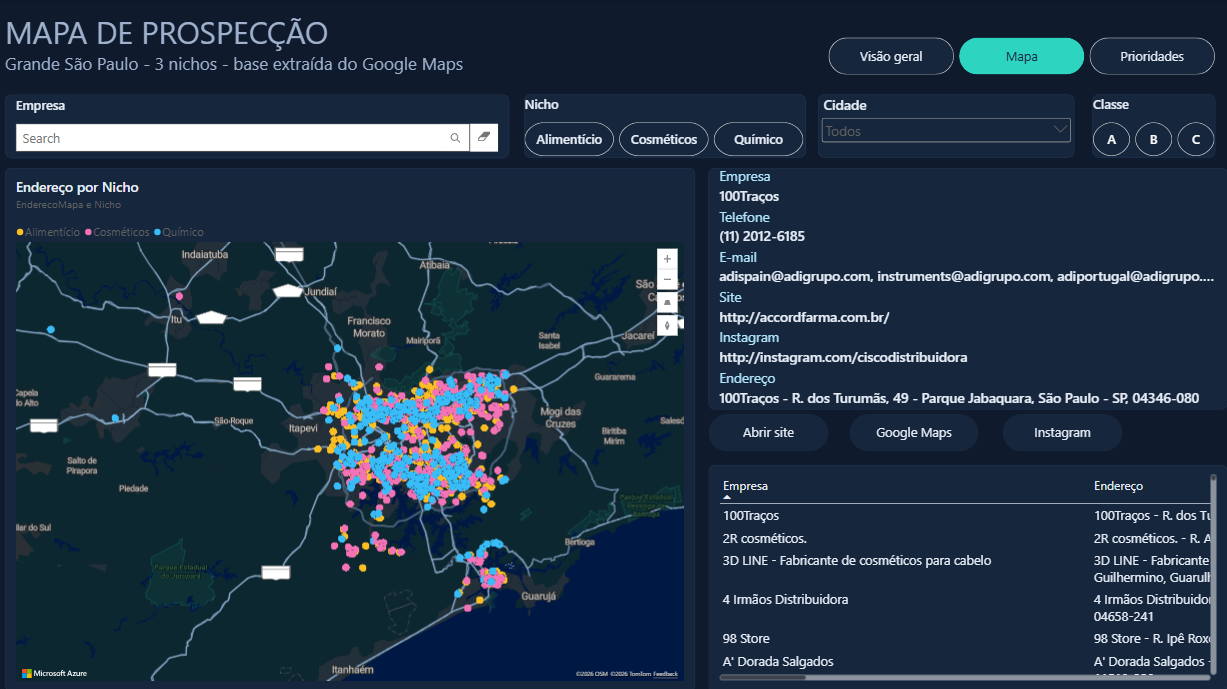

This screenshot's page, from the dashboard's own definition file:
{"tool":"powerbi","page":{"name":"Mapa","canvas":[1920,1080],"ordinal":1},"visuals":[{"type":"azureMap","title":"Endereço por Nicho","fields":{"Category":["Base_prospeccao_completa.EnderecoMapa"],"Series":["Base_prospeccao_completa.Nicho"]},"box":[9.4,262.6,1078.5,818.2],"z":0},{"type":"advancedSlicerVisual","fields":{"Values":["Base_prospeccao_completa.Classe"]},"box":[1709.1,147.7,192.2,98.5],"z":1000},{"type":"advancedSlicerVisual","fields":{"Values":["Base_prospeccao_completa.Nicho"]},"box":[820.6,147.7,440.8,98.5],"z":2000},{"type":"slicer","fields":{"Values":["Base_prospeccao_completa.Cidade"]},"box":[1280.1,147.7,400.9,98.5],"z":3000},{"type":"cardVisual","title":"Empresa selecionada","fields":{"Data":["Min(Base_prospeccao_completa.Empresa)","Min(Base_prospeccao_completa.Telefone)","Min(Base_prospeccao_completa.E-mail)","Min(Base_prospeccao_completa.Site)","Min(Base_prospeccao_completa.Instagram)","Min(Base_prospeccao_completa.Endereço)"]},"box":[1108.9,262.6,811.2,377.5],"z":4000},{"type":"textbox","box":[9.4,16.4,1252,131.3],"z":5000},{"type":"pageNavigator","box":[1296.5,58.6,604.9,58.6],"z":6000},{"type":"actionButton","box":[1108.9,647.1,187.6,58.6],"z":7000},{"type":"actionButton","box":[1568.5,647.1,187.6,58.6],"z":8000},{"type":"tableEx","fields":{"Values":["Base_prospeccao_completa.Empresa","Base_prospeccao_completa.Endereço","Base_prospeccao_completa.Telefone","Base_prospeccao_completa.E-mail","Base_prospeccao_completa.Instagram","Base_prospeccao_completa.Facebook","Base_prospeccao_completa.LinkedIn","Base_prospeccao_completa.TikTok","Base_prospeccao_completa.X"]},"box":[1108.9,726.8,811.2,354],"z":9000},{"type":"actionButton","box":[1329.3,647.1,201.6,58.6],"z":10000},{"type":"textFilter25A4896A83E0487089E2B90C9AE57C8A","fields":{"field":["Base_prospeccao_completa.Empresa"]},"box":[9.4,147.7,787.7,98.5],"z":10001}]}

Visuals, with their boxes in screenshot pixels (x1, y1, x2, y2), scaled from the page's 1920x1080 canvas onto the 1227x689 screenshot:
"Endereço por Nicho" azureMap: x1=6, y1=168, x2=695, y2=688
advancedSlicerVisual - Base_prospeccao_completa.Classe: x1=1092, y1=94, x2=1215, y2=157
advancedSlicerVisual - Base_prospeccao_completa.Nicho: x1=524, y1=94, x2=806, y2=157
slicer - Base_prospeccao_completa.Cidade: x1=818, y1=94, x2=1074, y2=157
"Empresa selecionada" cardVisual: x1=709, y1=168, x2=1226, y2=408
textbox: x1=6, y1=10, x2=806, y2=94
pageNavigator: x1=829, y1=37, x2=1215, y2=75
actionButton: x1=709, y1=413, x2=829, y2=450
actionButton: x1=1002, y1=413, x2=1122, y2=450
tableEx - Base_prospeccao_completa.Empresa x Base_prospeccao_completa.Endereço: x1=709, y1=464, x2=1226, y2=688
actionButton: x1=850, y1=413, x2=978, y2=450
textFilter25A4896A83E0487089E2B90C9AE57C8A - Base_prospeccao_completa.Empresa: x1=6, y1=94, x2=509, y2=157
